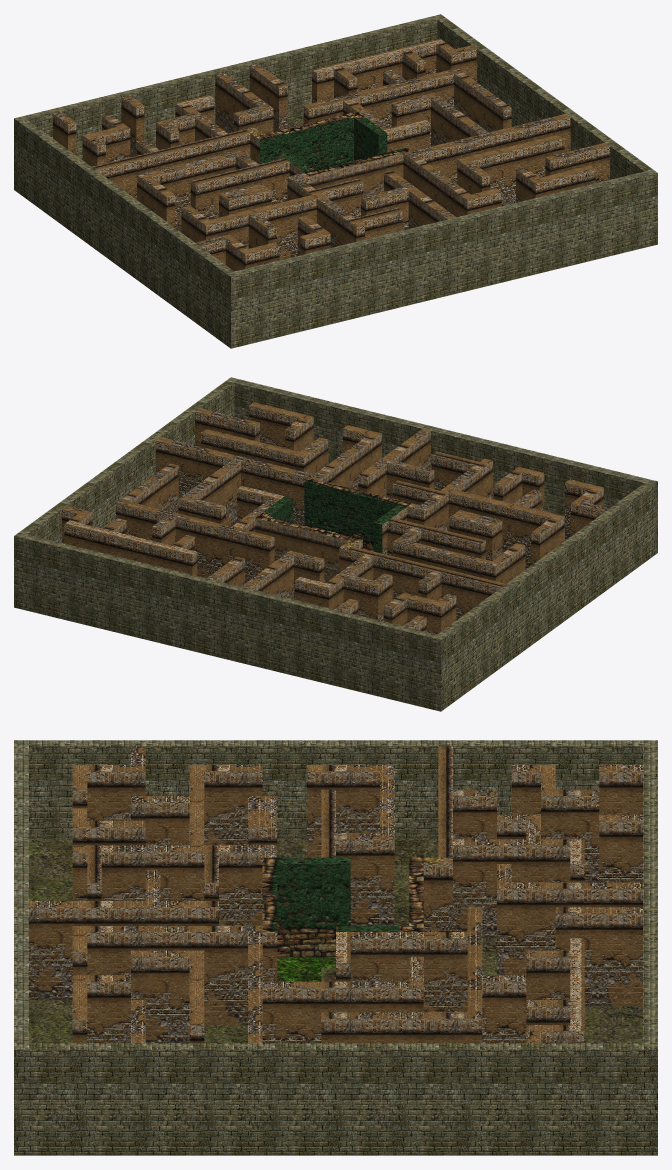
The model's file is maze.fbx.
The picture shows the model from 3 angles, top to bottom: view 1: azimuth 30°, elevation 25°; view 2: azimuth 150°, elevation 25°; view 3: azimuth 270°, elevation 25°; orthographic projection. The views are drawn at different scales.
Parts seen in each view (by area): view 1: Mesh_037, Mesh_041, Mesh_043, Mesh_042, Mesh_019, Mesh_009, Mesh_068, Mesh_038, Mesh_070, Mesh_063, Mesh_013, Mesh_036 (+42 smaller); view 2: Mesh_043, Mesh_041, Mesh_037, Mesh_042, Mesh_009, Mesh_036, Mesh_013, Mesh_068, Mesh_070, Mesh_019, Mesh_038, Mesh_057 (+40 smaller); view 3: Mesh_042, Mesh_041, Mesh_007, Mesh_040, Mesh_008, Mesh_032, Mesh_030, Mesh_025, Mesh_017, Mesh_043, Mesh_037, Mesh_044 (+53 smaller).
Boxes of the visible parts, x1,y1,x2,y2 form: Mesh_037: (226, 169, 657, 348); Mesh_041: (19, 120, 233, 344); Mesh_043: (14, 14, 445, 193); Mesh_042: (437, 18, 652, 179); Mesh_019: (255, 111, 362, 170); Mesh_009: (403, 114, 570, 183); Mesh_068: (92, 129, 250, 199); Mesh_038: (457, 134, 564, 206); Mesh_070: (312, 38, 444, 103); Mesh_063: (190, 158, 289, 219); Mesh_013: (303, 78, 419, 127); Mesh_036: (305, 147, 411, 196); Mesh_043: (14, 532, 445, 711); Mesh_041: (438, 483, 652, 707); Mesh_037: (226, 377, 657, 556); Mesh_042: (19, 381, 234, 542); Mesh_009: (155, 437, 322, 524); Mesh_036: (304, 478, 411, 551); Mesh_013: (158, 510, 274, 583); Mesh_068: (347, 546, 505, 620); Mesh_070: (64, 520, 197, 575); Mesh_019: (255, 514, 362, 582); Mesh_038: (201, 429, 308, 472); Mesh_057: (401, 540, 500, 582); Mesh_042: (28, 1043, 643, 1155); Mesh_041: (28, 740, 643, 839); Mesh_007: (72, 845, 262, 925); Mesh_040: (87, 926, 248, 1024); Mesh_008: (28, 901, 218, 999); Mesh_032: (555, 907, 643, 1006); Mesh_030: (350, 932, 467, 1012); Mesh_025: (277, 857, 350, 956); Mesh_017: (262, 981, 409, 1043); Mesh_043: (643, 740, 657, 1155); Mesh_037: (14, 740, 28, 1155); Mesh_044: (511, 882, 643, 975).
Bounding box in the file's own units: 89.21 × 14.27 × 78.51.
Materials: 9 (9 with a texture image).
